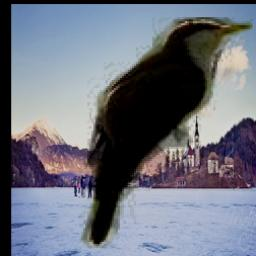Cuckoo: (80, 18, 254, 250)
